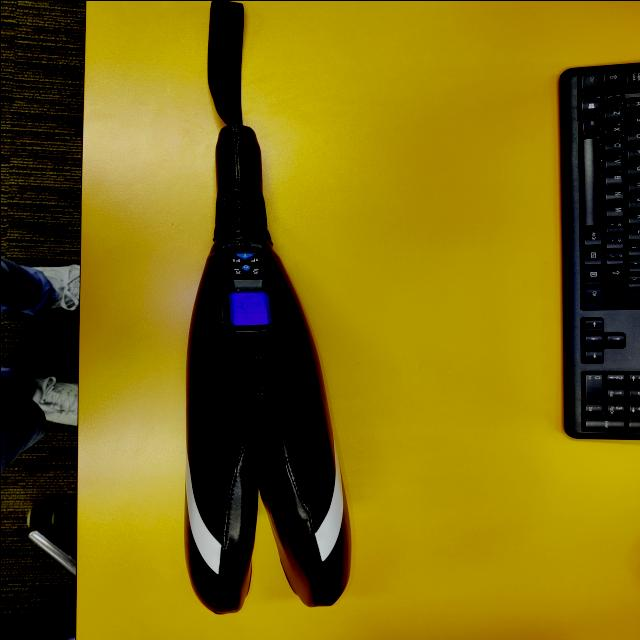paddle: (175, 123, 356, 618)
